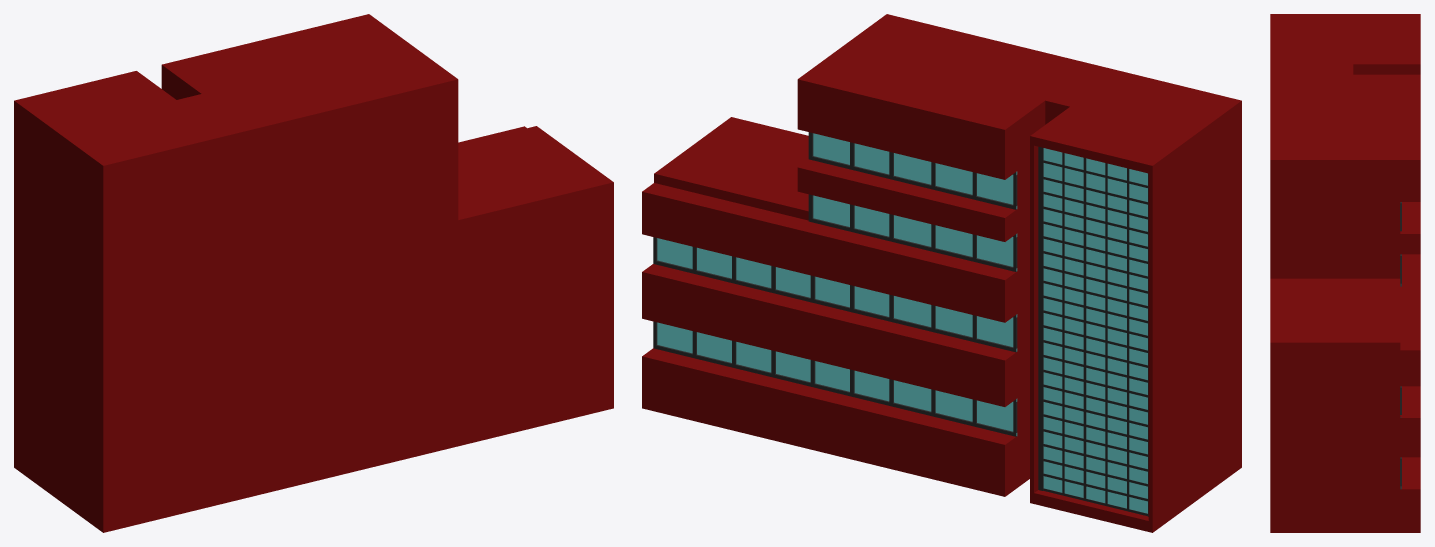
The model's file is Building3.fbx.
3 views of the same model, side by side, from view 1: azimuth 30°, elevation 25°; view 2: azimuth 150°, elevation 25°; view 3: azimuth 270°, elevation 25° (orthographic). The views are drawn at different scales.
Parts seen in each view (by area): view 1: Building3; view 2: Building3; view 3: Building3.
Part boxes in pixels (box(x1,y1,x2,y2)): Building3: box(14, 14, 613, 532); Building3: box(642, 14, 1241, 532); Building3: box(1270, 14, 1420, 532).
Bounding box in the file's own units: 1540 × 1058 × 466.
